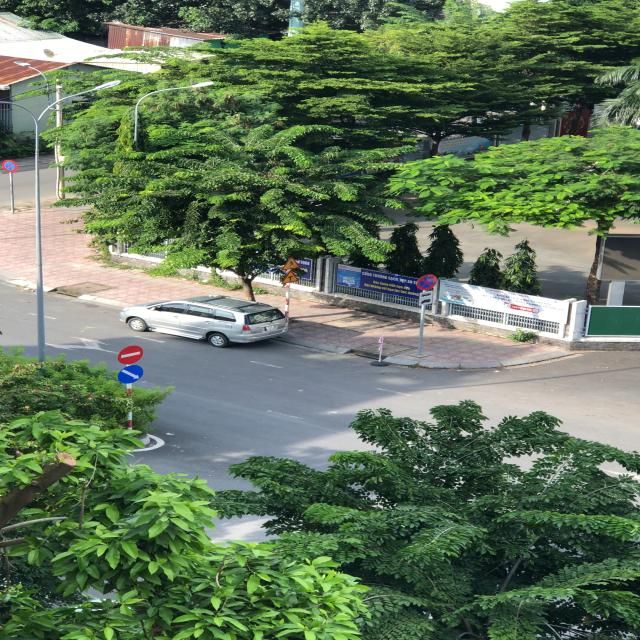Bien bao cam di nguoc chieu: (116, 345, 147, 366)
Bien bao cam dung xe va do xe: (413, 273, 442, 291)
Bien bao duong giao nhau: (280, 270, 302, 284)
Bien bao duong nguoi di bo cat ngang: (280, 256, 300, 270)
Bien bao huong phai di vong chuong ngai vat: (113, 365, 148, 385)
